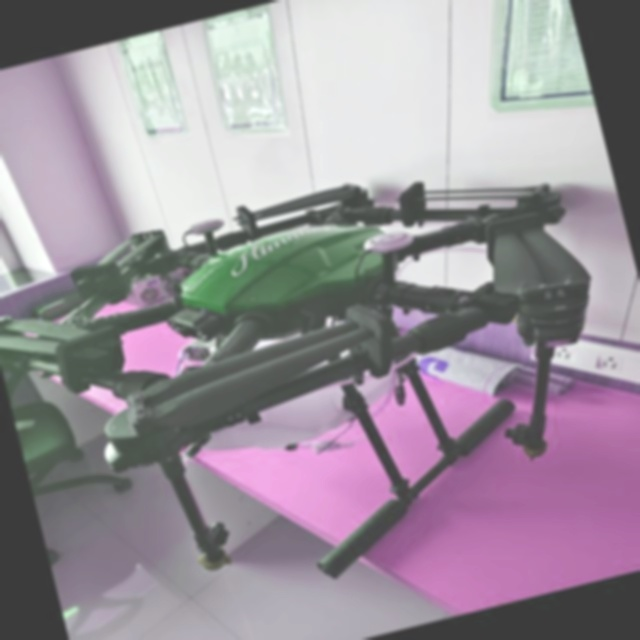agriculturedrone: (0, 121, 640, 640)
